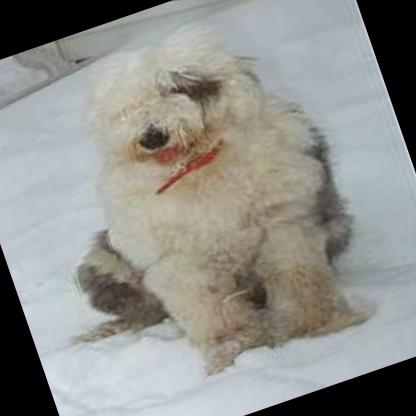Old_English_sheepdog: (2, 0, 390, 410)
